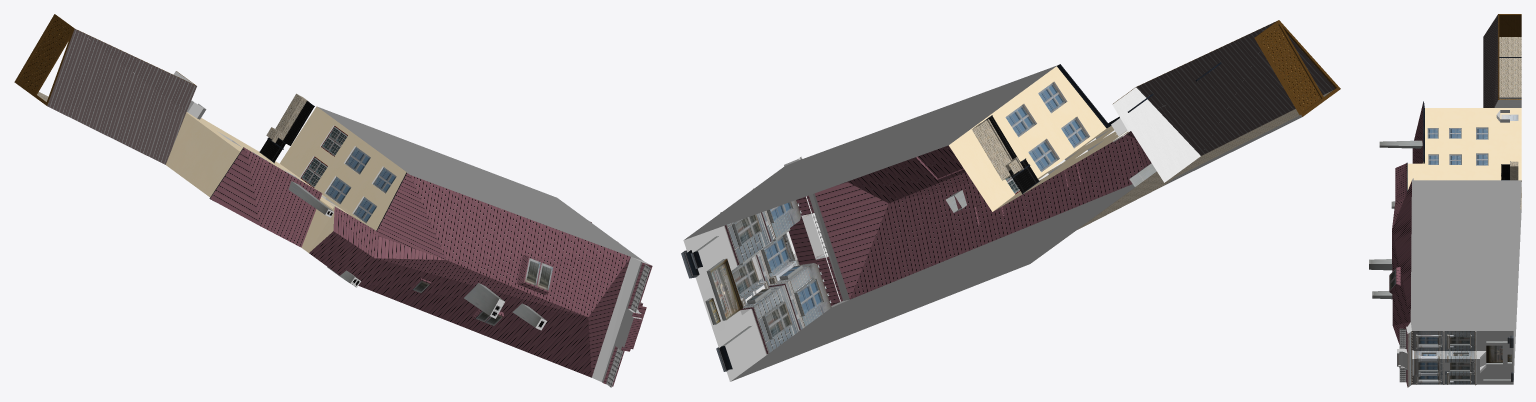
File: Pikk_35.obj
3 views of the same model, side by side, from view 1: azimuth 30°, elevation 25°; view 2: azimuth 150°, elevation 25°; view 3: azimuth 270°, elevation 25° (orthographic). The views are drawn at different scales.
Visible parts, largest first — view 1: Plane01; view 2: Plane01; view 3: Plane01.
Boxes of the visible parts, x1,y1,x2,y2 form: Plane01: [14, 14, 652, 387]; Plane01: [681, 20, 1340, 381]; Plane01: [1369, 14, 1521, 387].
Bounding box in the file's own units: 42.54 × 31.13 × 17.78.
